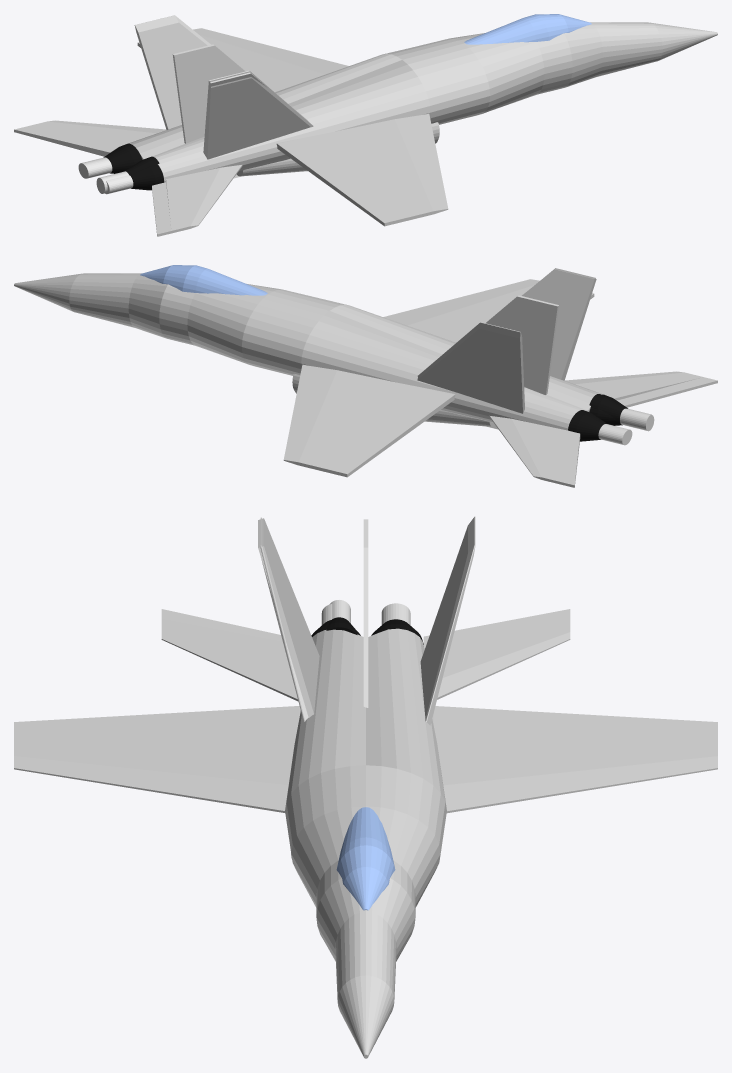
The model's file is plane 2.5 texture.glb.
3 renders of one model, top to bottom at view 1: azimuth 30°, elevation 25°; view 2: azimuth 150°, elevation 25°; view 3: azimuth 270°, elevation 25°, orthographic. The views are drawn at different scales.
Parts seen in each view (by area): view 1: fuselage, main wing, rear vert, Cube.003, Cube.001, rear aer, dome, Cylinder.004, l rear thrust, r rear thrust, Cube, Cylinder.002 (+1 smaller); view 2: fuselage, main wing, rear vert, Cube.001, rear aer, Cube, dome, l rear thrust, Cylinder.005, Cylinder.003, Cylinder.001, Cylinder.002; view 3: main wing, fuselage, rear vert, dome, Cube, Cube.001, rear aer, Cube.003.
Boxes of the visible parts, <box> form: fuselage: <box>128,22,717,182</box>; main wing: <box>137,28,448,226</box>; rear vert: <box>14,120,242,236</box>; Cube.003: <box>205,71,313,159</box>; Cube.001: <box>134,15,210,129</box>; rear aer: <box>172,44,245,143</box>; dome: <box>464,14,591,44</box>; Cylinder.004: <box>236,122,439,176</box>; l rear thrust: <box>103,143,141,173</box>; r rear thrust: <box>130,164,163,190</box>; Cube: <box>203,70,308,155</box>; Cylinder.002: <box>78,157,112,178</box>; fuselage: <box>14,273,603,430</box>; main wing: <box>283,279,594,477</box>; rear vert: <box>489,371,717,487</box>; Cube.001: <box>417,322,524,413</box>; rear aer: <box>485,295,559,394</box>; Cube: <box>522,269,596,379</box>; dome: <box>140,265,267,295</box>; l rear thrust: <box>568,410,606,441</box>; Cylinder.005: <box>293,374,495,426</box>; Cylinder.003: <box>620,408,654,431</box>; Cylinder.001: <box>589,394,626,425</box>; Cylinder.002: <box>598,424,632,445</box>; main wing: <box>14,706,717,813</box>; fuselage: <box>285,628,446,1058</box>; rear vert: <box>161,609,570,701</box>; dome: <box>336,807,395,910</box>; Cube: <box>258,518,319,717</box>; Cube.001: <box>420,516,475,725</box>; rear aer: <box>363,519,368,707</box>; Cube.003: <box>260,517,308,721</box>.
Size of the model in its own units: 2.79 by 0.5777 by 1.89.
